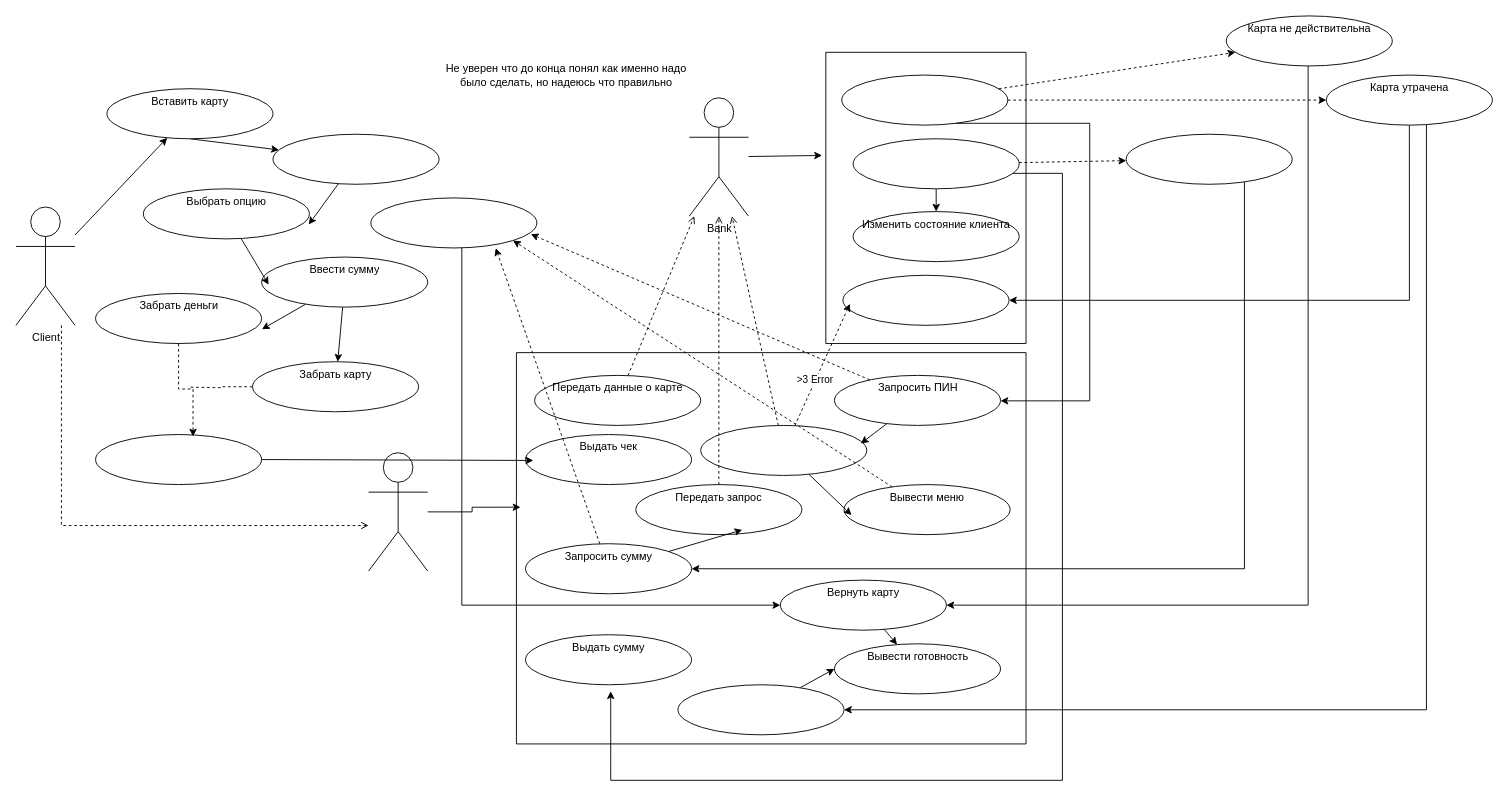
Image size: 1509x804. Some labels were removed from this diagram. The shapes that lost their labels are listed below. From the top down, each one's centre as x and y in pixels, then its label:
At point (924, 99): "Проверить данные о карте".
At point (355, 158): "Ввести пин".
At point (935, 163): "Проверить запрашиваемую сумму".
At point (1208, 158): "Недействительная сумма".
At point (453, 222): "Отказаться от транзакции".
At point (925, 299): "Заблокировать счет".
At point (178, 459): "Распечатать чек".
At point (783, 450): "Проверить ПИН".
At point (398, 511): "ATM".
At point (760, 709): "Заблокировать карту".
